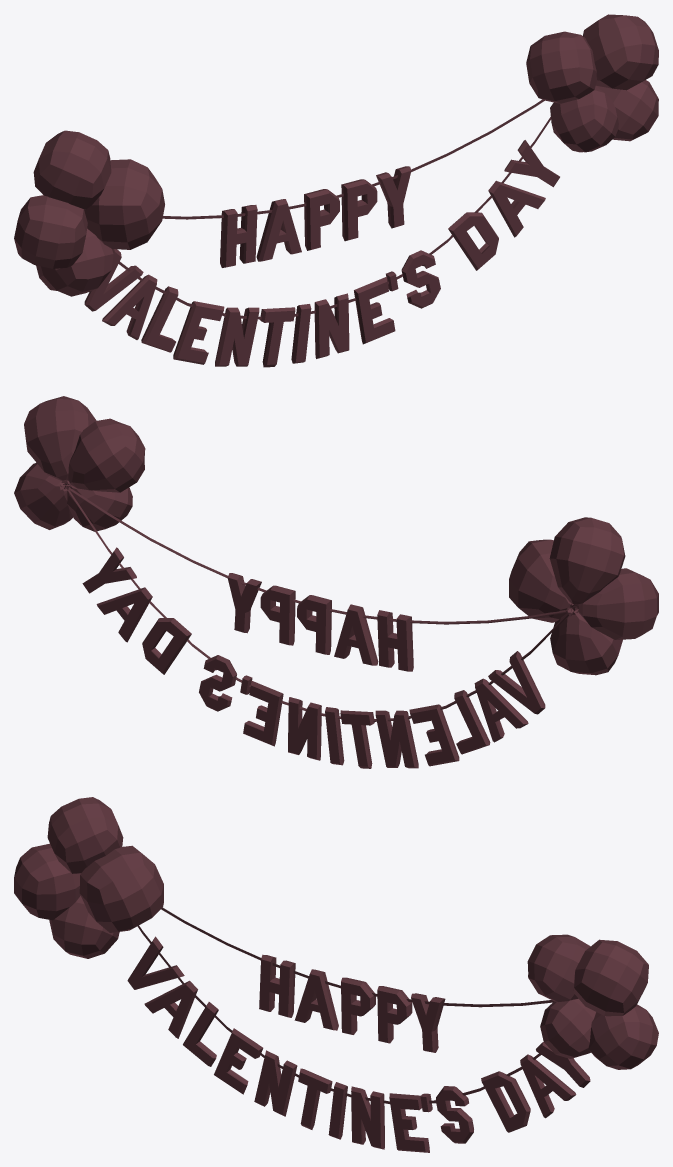
The model's file is balloons-sign-happy-valentines-day-big.fbx.
3 renders of one model, top to bottom at view 1: azimuth 30°, elevation 25°; view 2: azimuth 150°, elevation 25°; view 3: azimuth 330°, elevation 25°, orthographic. The views are drawn at different scales.
Visible parts, largest first — view 1: balloons-sign-happy-valentines-day-big; view 2: balloons-sign-happy-valentines-day-big; view 3: balloons-sign-happy-valentines-day-big.
Boxes of the visible parts, x1,y1,x2,y2 form: balloons-sign-happy-valentines-day-big: [14, 14, 658, 367]; balloons-sign-happy-valentines-day-big: [14, 396, 658, 768]; balloons-sign-happy-valentines-day-big: [14, 797, 658, 1152].
Size of the model in its own units: 3.09 by 1.37 by 0.3934.
